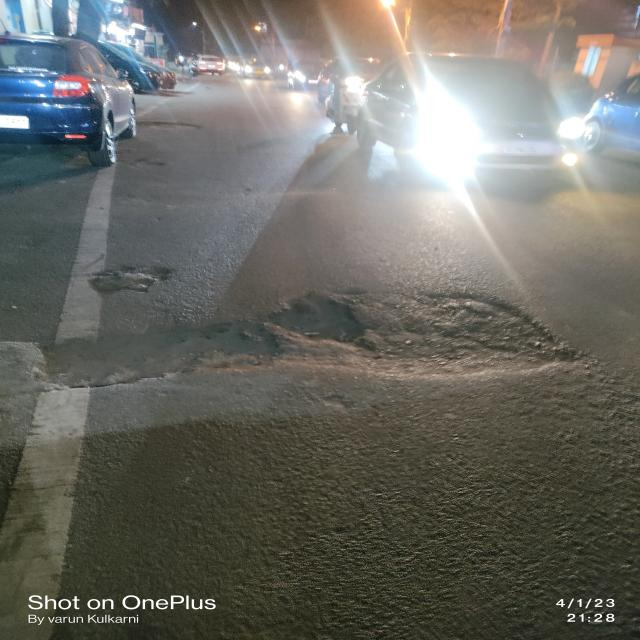potholes: (28, 259, 587, 394)
